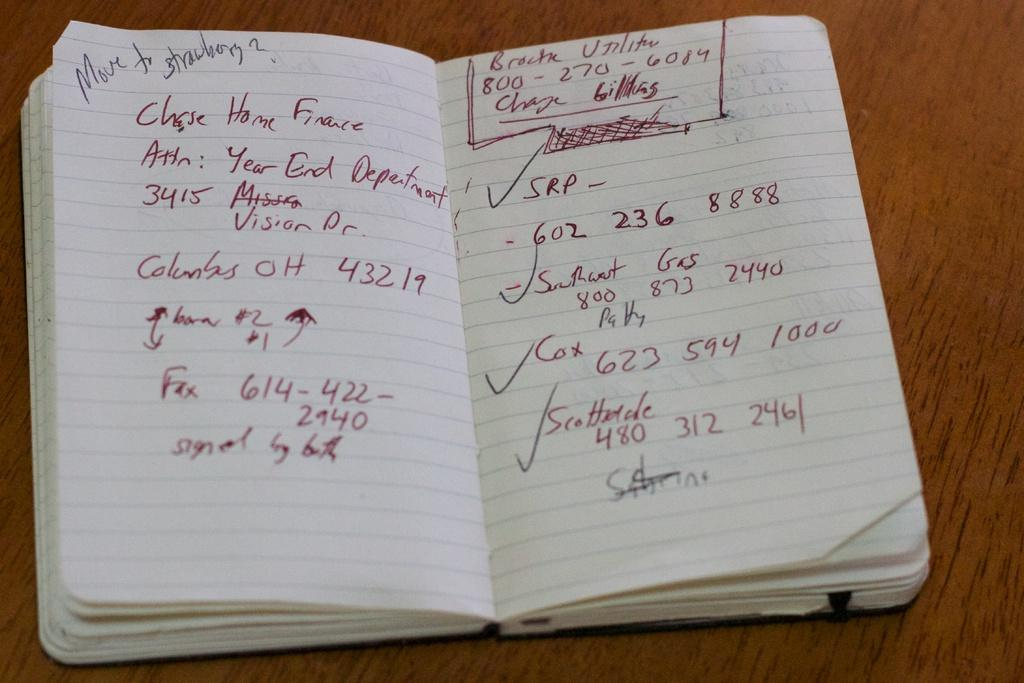book: (36, 23, 935, 666)
